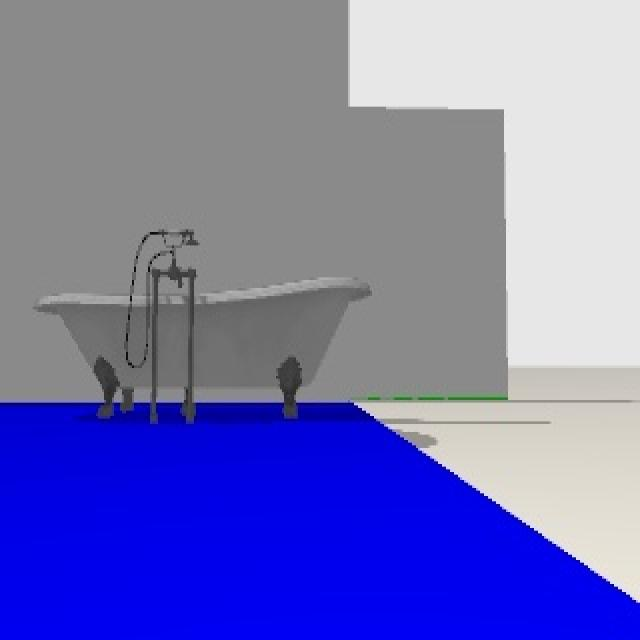bathtub: (34, 229, 374, 424)
